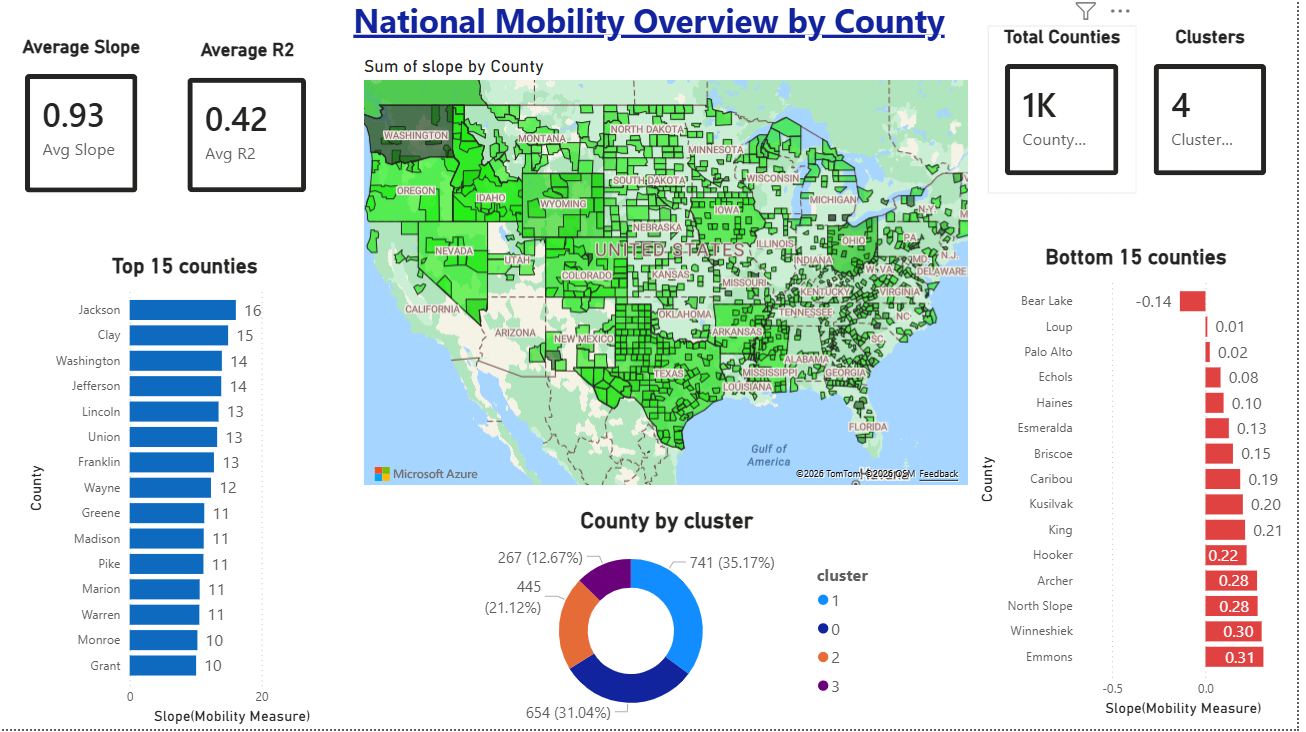

This screenshot's page, from the dashboard's own definition file:
{"tool":"powerbi","page":{"name":"National mobility by county","canvas":[1280,720],"ordinal":0},"visuals":[{"type":"textbox","box":[314.2,0,662.8,61.7],"z":0},{"type":"donutChart","title":"County by cluster","fields":{"Category":["county_slopes_clusters.cluster"],"Y":["CountNonNull(county_slopes_clusters.County)"]},"box":[441.9,503.6,443.2,216.8],"z":1000},{"type":"cardVisual","title":"Average Slope","fields":{"Data":["county_slopes (1).Avg Slope"]},"box":[17.8,41.2,144.1,171.5],"z":2000},{"type":"cardVisual","title":"Average R2","fields":{"Data":["county_slopes (1).Avg R2"]},"box":[177,45.3,150.9,167.4],"z":3000},{"type":"cardVisual","title":"Total Counties","fields":{"Data":["county_slopes (1).County Count"]},"box":[977,31.6,145.5,164.7],"z":4000},{"type":"cardVisual","title":"Clusters","fields":{"Data":["county_slopes_clusters.Cluster Count"]},"box":[1122.5,31.6,144.1,164.7],"z":5000},{"type":"azureMap","fields":{"Category":["county_slopes (1).County"]},"box":[362.3,61.7,601,425.4],"z":6000},{"type":"barChart","title":"Bottom 15 counties","fields":{"Category":["county_slopes (1).County"],"Y":["Sum(county_slopes (1).slope)"]},"box":[963.3,245.6,317,466.6],"z":7000},{"type":"barChart","title":"Bottom 15 counties","fields":{"Category":["county_slopes (1).County"],"Y":["Sum(county_slopes (1).slope)"]},"box":[32.9,253.9,317,466.6],"z":8000}]}

Visuals, with their boxes in screenshot pixels (x1, y1, x2, y2), scaled from the page's 1280x720 canvas onto the 1306x732 screenshot:
textbox: 321 0 997 63
"County by cluster" donutChart: 451 512 903 731
"Average Slope" cardVisual: 18 42 165 216
"Average R2" cardVisual: 181 46 335 216
"Total Counties" cardVisual: 997 32 1145 200
"Clusters" cardVisual: 1145 32 1292 200
azureMap - county_slopes (1).County: 370 63 983 495
"Bottom 15 counties" barChart: 983 250 1305 724
"Bottom 15 counties" barChart: 34 258 357 731
